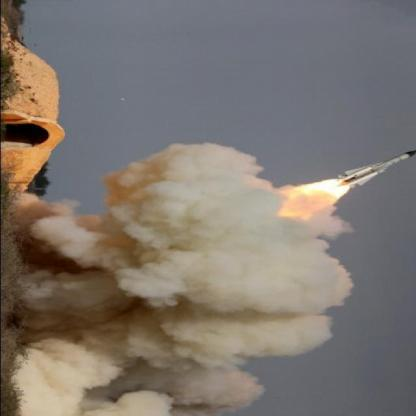MIL_TBM: (334, 148, 416, 190)
